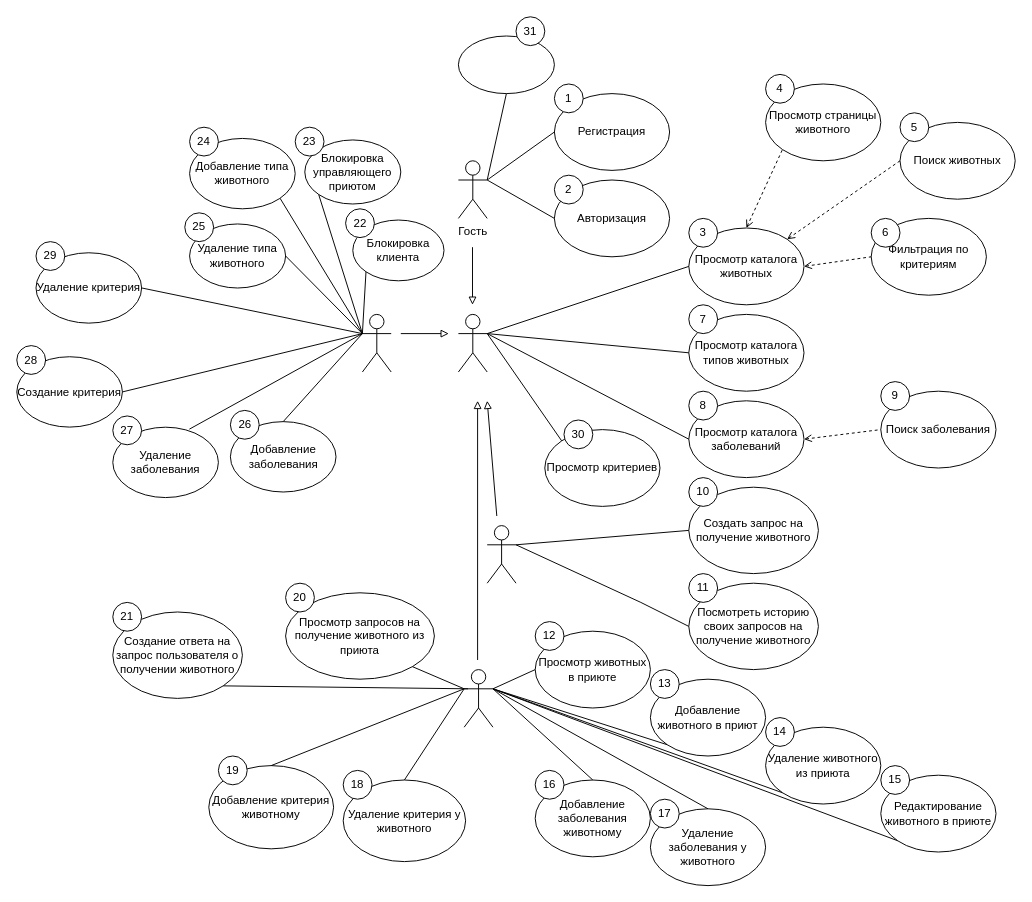
This 1032x902 diagram has some shape labels left out. Here are the shapes that lost their labels. From the top down, the centre of each, then its label:
the point at 505,64: Подписка на уведомления в телеграм боте
the point at 376,342: Администратор
the point at 472,342: Пользователь
the point at 501,554: Клиент
the point at 478,698: Управляющий приютом
